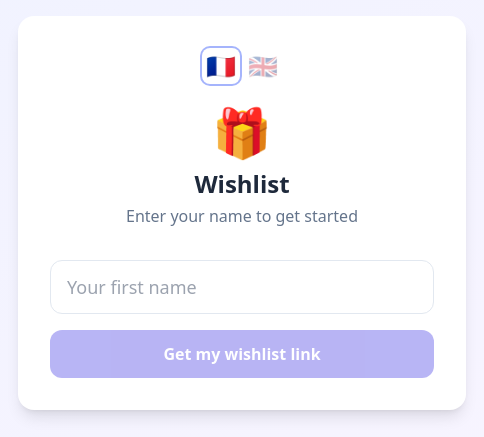
Test case: Register view › step 1 — name form › submit button is enabled after typing a name
Type "Simon" into the field with placeholder "Your first name" at point(242, 287), box left=50, top=260, right=434, bottom=314
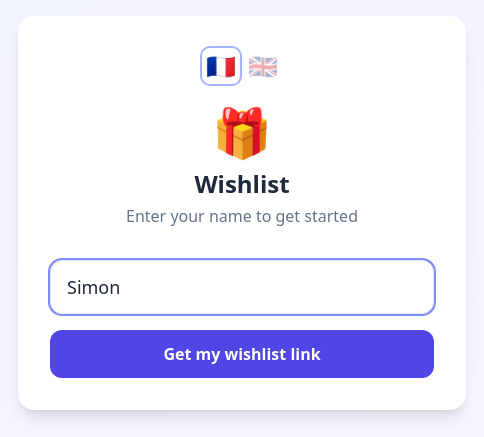
Now the submit button is enabled, box left=50, top=330, right=434, bottom=378
